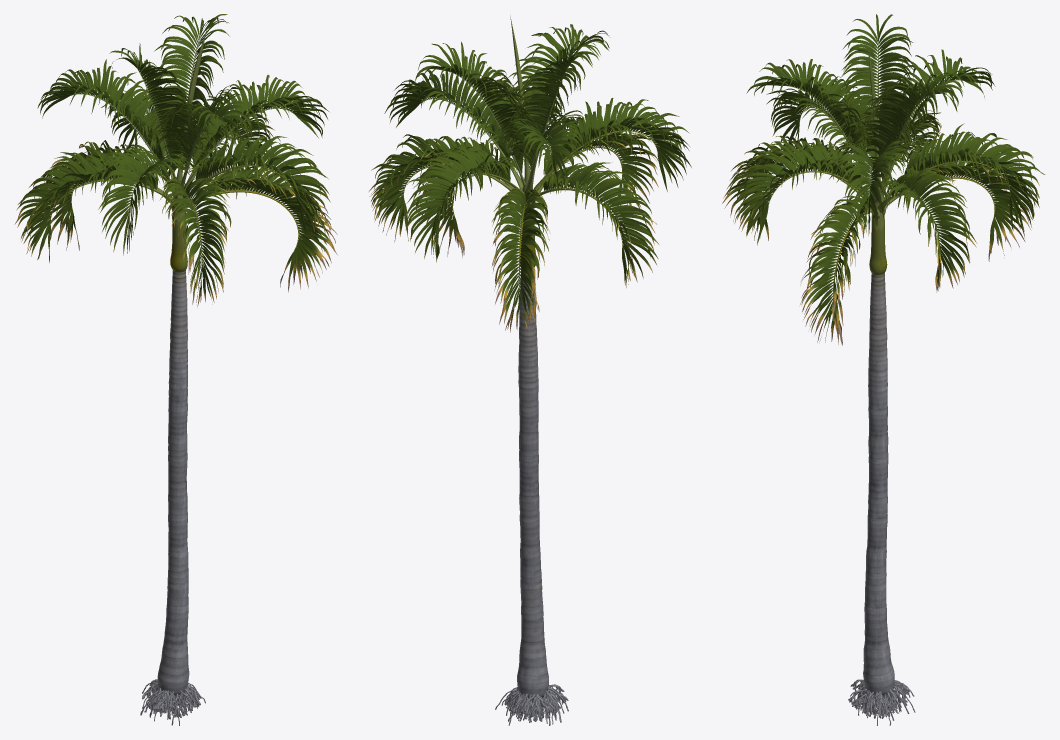
Rendered from christmas_palm.glb.
3 renders of one model, left to right at view 1: azimuth 30°, elevation 25°; view 2: azimuth 150°, elevation 25°; view 3: azimuth 270°, elevation 25°, orthographic.
Visible parts, largest first — view 1: Adonidia_merrillii_HD_Adonidia leaflet 02_0, Adonidia_merrillii_HD_Adonidia leaflet 03_0, Adonidia_merrillii_HD_Adonidia leaflet 01_0, Adonidia_merrillii_HD_Ardonidia trunk_0, Adonidia_merrillii_HD_Adonid crownshaft 01_0, Adonidia_merrillii_HD_Adonidia leaf stalk 01_0, Adonidia_merrillii_HD_Adonidia leaf stalk 02_0; view 2: Adonidia_merrillii_HD_Adonidia leaflet 02_0, Adonidia_merrillii_HD_Adonidia leaflet 03_0, Adonidia_merrillii_HD_Adonidia leaflet 01_0, Adonidia_merrillii_HD_Ardonidia trunk_0, Adonidia_merrillii_HD_Adonidia leaf stalk 02_0, Adonidia_merrillii_HD_Adonidia leaf stalk 01_0, Adonidia_merrillii_HD_Adonid crownshaft 01_0; view 3: Adonidia_merrillii_HD_Adonidia leaflet 02_0, Adonidia_merrillii_HD_Adonidia leaflet 03_0, Adonidia_merrillii_HD_Adonidia leaflet 01_0, Adonidia_merrillii_HD_Ardonidia trunk_0, Adonidia_merrillii_HD_Adonid crownshaft 01_0, Adonidia_merrillii_HD_Adonidia leaf stalk 02_0, Adonidia_merrillii_HD_Adonidia leaf stalk 01_0.
Boxes of the visible parts, x1,y1,x2,y2 form: Adonidia_merrillii_HD_Adonidia leaflet 02_0: (16, 15, 337, 306); Adonidia_merrillii_HD_Adonidia leaflet 03_0: (14, 14, 337, 304); Adonidia_merrillii_HD_Adonidia leaflet 01_0: (17, 21, 335, 302); Adonidia_merrillii_HD_Ardonidia trunk_0: (140, 271, 205, 725); Adonidia_merrillii_HD_Adonid crownshaft 01_0: (170, 28, 207, 273); Adonidia_merrillii_HD_Adonidia leaf stalk 01_0: (70, 36, 295, 196); Adonidia_merrillii_HD_Adonidia leaf stalk 02_0: (50, 111, 296, 267); Adonidia_merrillii_HD_Adonidia leaflet 02_0: (369, 24, 686, 332); Adonidia_merrillii_HD_Adonidia leaflet 03_0: (374, 27, 691, 331); Adonidia_merrillii_HD_Adonidia leaflet 01_0: (371, 29, 689, 332); Adonidia_merrillii_HD_Ardonidia trunk_0: (495, 271, 568, 725); Adonidia_merrillii_HD_Adonidia leaf stalk 02_0: (403, 130, 657, 247); Adonidia_merrillii_HD_Adonidia leaf stalk 01_0: (419, 52, 574, 198); Adonidia_merrillii_HD_Adonid crownshaft 01_0: (510, 16, 535, 270); Adonidia_merrillii_HD_Adonidia leaflet 02_0: (722, 14, 1039, 345); Adonidia_merrillii_HD_Adonidia leaflet 03_0: (734, 46, 1034, 342); Adonidia_merrillii_HD_Adonidia leaflet 01_0: (723, 14, 1045, 344); Adonidia_merrillii_HD_Ardonidia trunk_0: (848, 274, 915, 725); Adonidia_merrillii_HD_Adonid crownshaft 01_0: (867, 44, 887, 276); Adonidia_merrillii_HD_Adonidia leaf stalk 02_0: (761, 107, 1010, 232); Adonidia_merrillii_HD_Adonidia leaf stalk 01_0: (783, 42, 963, 207).
Bounding box in the file's own units: 2.74 × 6.37 × 2.72.
8 materials, 8 textured.
